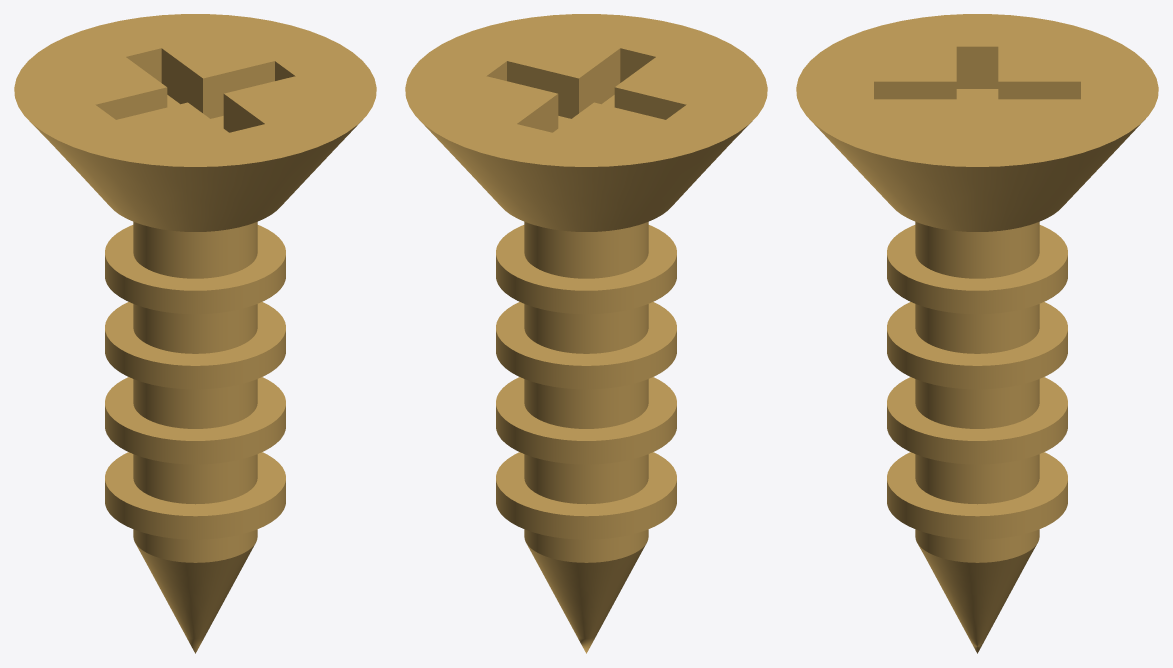
Rendered from madeira_3_5x12.glb.
The picture shows the model from 3 angles, left to right: view 1: azimuth 30°, elevation 25°; view 2: azimuth 150°, elevation 25°; view 3: azimuth 270°, elevation 25°; orthographic projection.
Visible parts, largest first — view 1: madeira_3_5x12; view 2: madeira_3_5x12; view 3: madeira_3_5x12.
Part boxes in pixels (x1,y1,x2,y2): madeira_3_5x12: [14, 14, 376, 653]; madeira_3_5x12: [405, 14, 767, 653]; madeira_3_5x12: [796, 14, 1158, 653].
Bounding box in the file's own units: 6.99 × 12 × 7.
